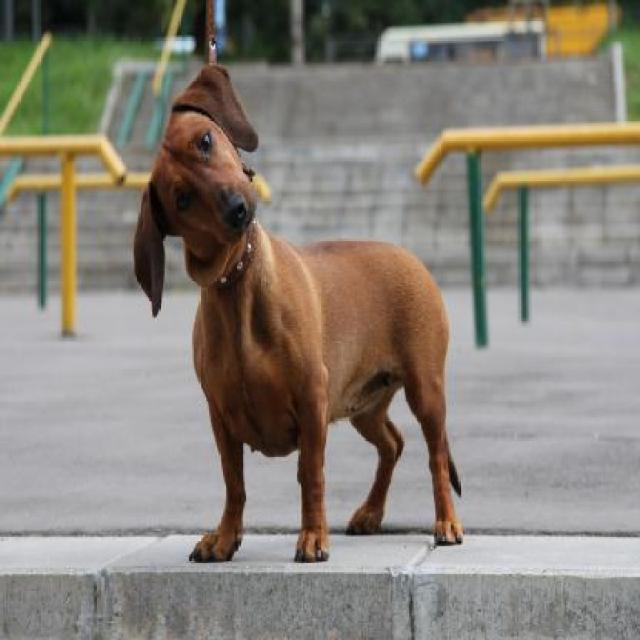Dog: (136, 55, 467, 568)
